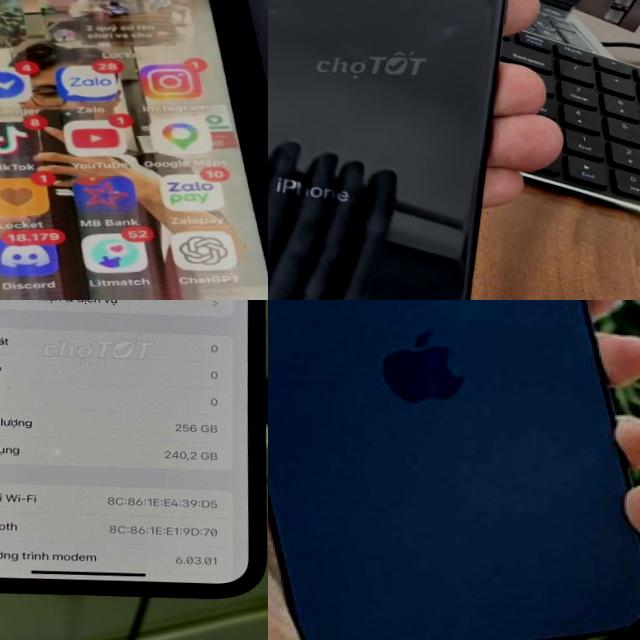gen_11: (0, 300, 268, 608), (0, 0, 268, 300)
gen_12_13: (268, 300, 640, 640)
gen_x_xs: (268, 0, 536, 300)
